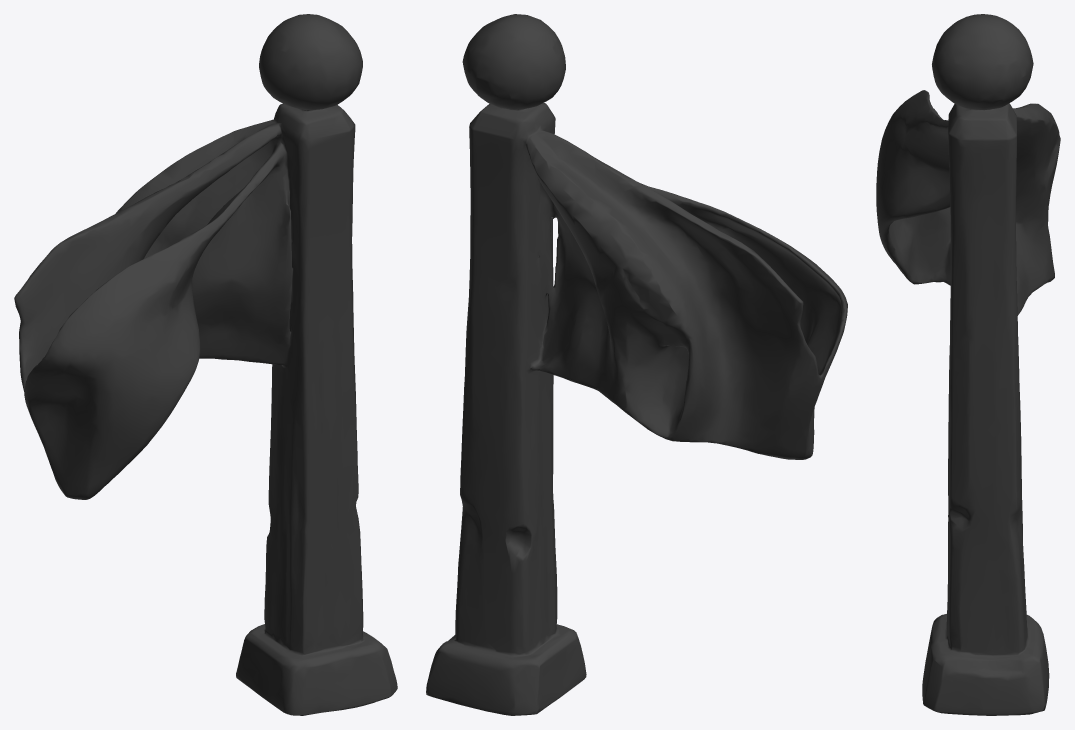
File: pr_bandera_azul.glb
The picture shows the model from 3 angles, left to right: view 1: azimuth 30°, elevation 25°; view 2: azimuth 150°, elevation 25°; view 3: azimuth 270°, elevation 25°; orthographic projection.
Visible parts, largest first — view 1: geometry_0; view 2: geometry_0; view 3: geometry_0.
Boxes of the visible parts, x1,y1,x2,y2 form: geometry_0: [14, 14, 397, 715]; geometry_0: [426, 14, 847, 715]; geometry_0: [876, 14, 1060, 715].
Size of the model in its own units: 0.5703 by 0.9941 by 0.2498.
1 material, 1 textured.
